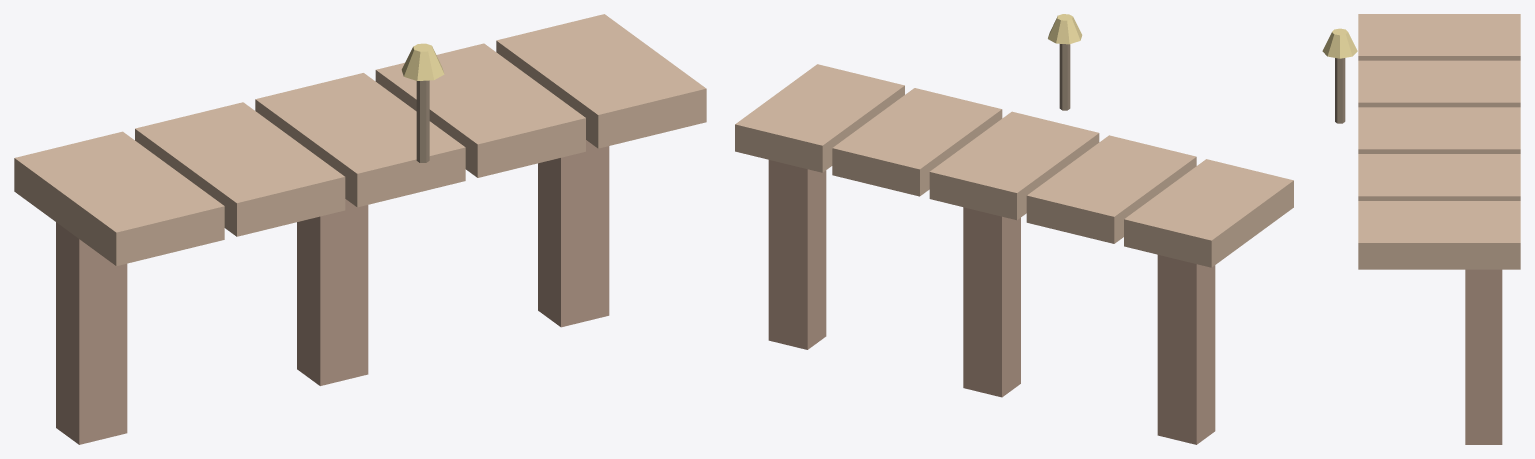
The model's file is dry_wash_bridge_near-2yKSz2p9.glb.
3 renders of one model, left to right at view 1: azimuth 30°, elevation 25°; view 2: azimuth 150°, elevation 25°; view 3: azimuth 270°, elevation 25°, orthographic. The views are drawn at different scales.
Parts seen in each view (by area): view 1: dry_wash_bridge_near; view 2: dry_wash_bridge_near; view 3: dry_wash_bridge_near.
Part boxes in pixels (x1,y1,x2,y2): dry_wash_bridge_near: (14,14,706,444); dry_wash_bridge_near: (735,14,1293,444); dry_wash_bridge_near: (1322,14,1520,444).
Bounding box in the file's own units: 14.7 × 9.29 × 5.38.
